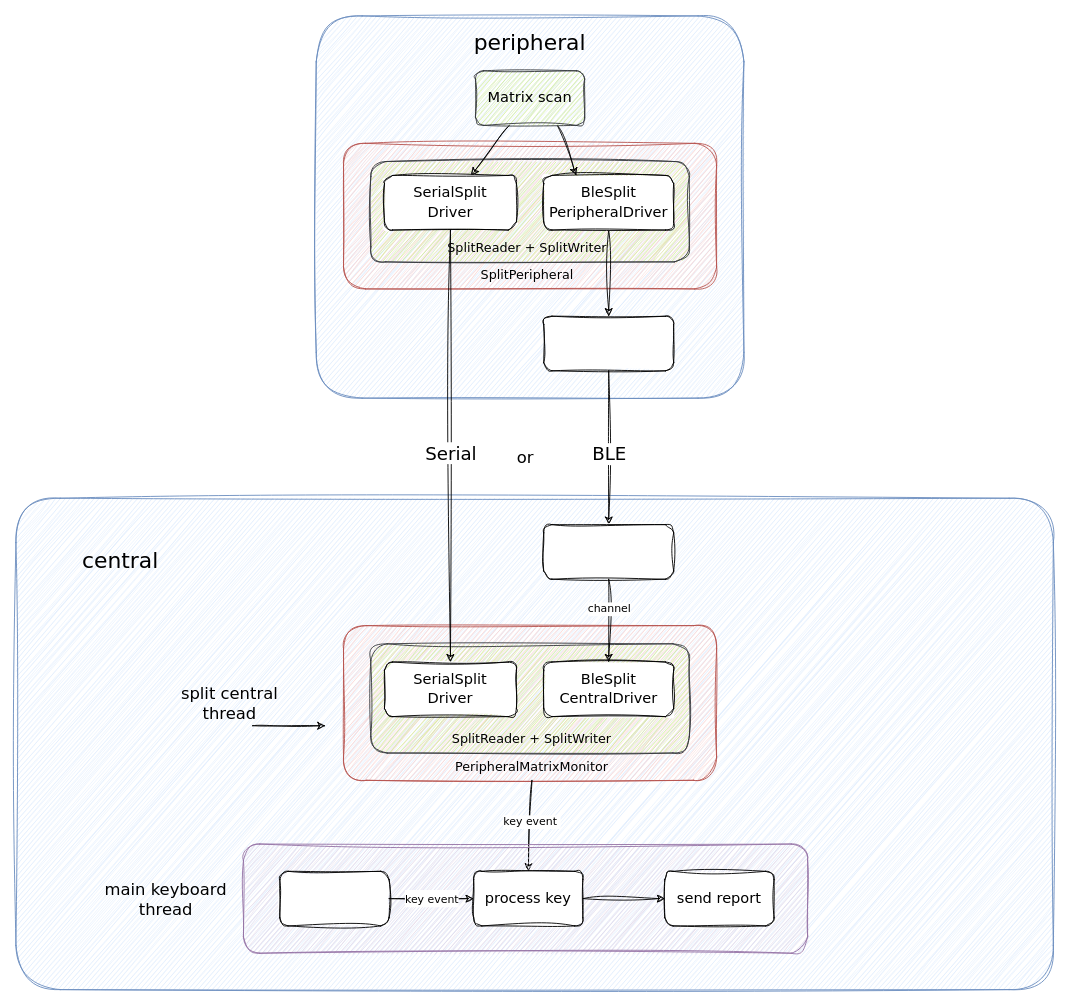
Image size: 1069x1006. Some labels were removed from this diagram. The centre of each missing label's shape, as x and y in pixels:
"BleSplit CentralClient" goes at point 608,551.
"BleSplit PeripheralServer" goes at point 608,343.
"scan central matrix" goes at point 334,898.
